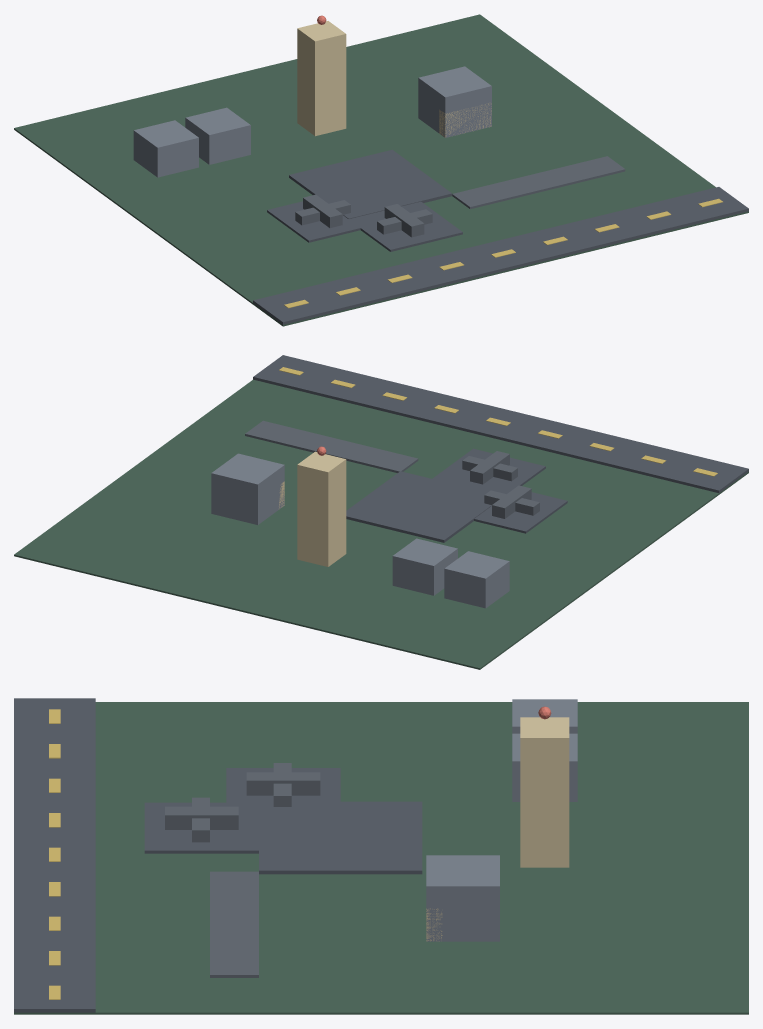
Rendered from stage_08.glb.
3 renders of one model, top to bottom at view 1: azimuth 30°, elevation 25°; view 2: azimuth 150°, elevation 25°; view 3: azimuth 270°, elevation 25°, orthographic. The views are drawn at different scales.
Parts seen in each view (by area): view 1: geometry_0; view 2: geometry_0; view 3: geometry_0.
Part boxes in pixels (<box>): geometry_0: <box>14,14,748,326</box>; geometry_0: <box>14,355,748,669</box>; geometry_0: <box>14,698,748,1014</box>.
Bounding box in the file's own units: 9 × 2.06 × 9.
